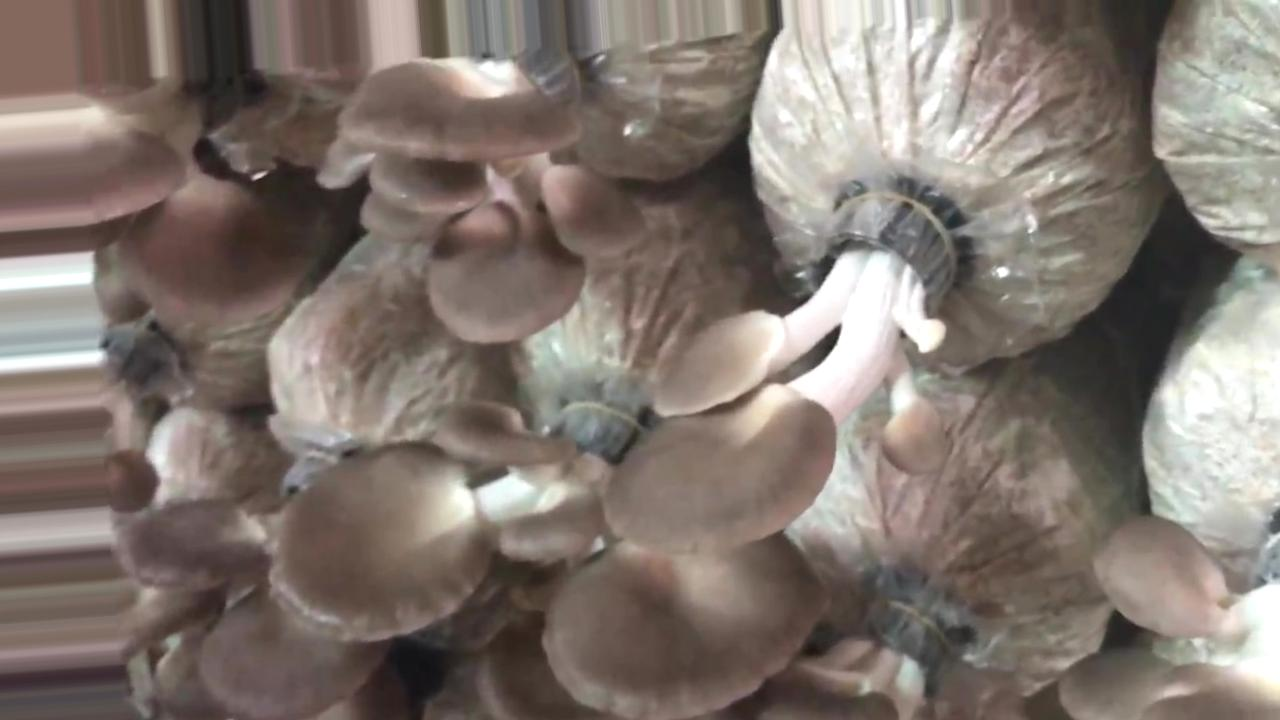nam: (270, 393, 824, 720), (614, 191, 964, 553), (345, 59, 653, 352), (120, 443, 393, 720)
